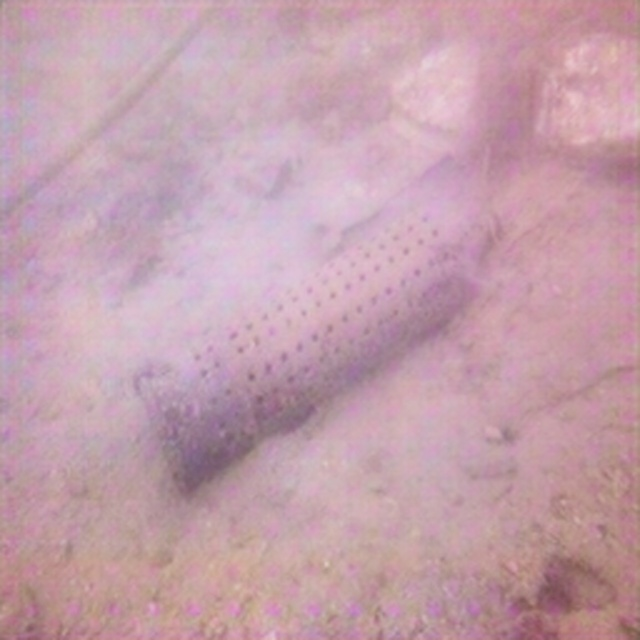mine: (131, 194, 502, 495)
